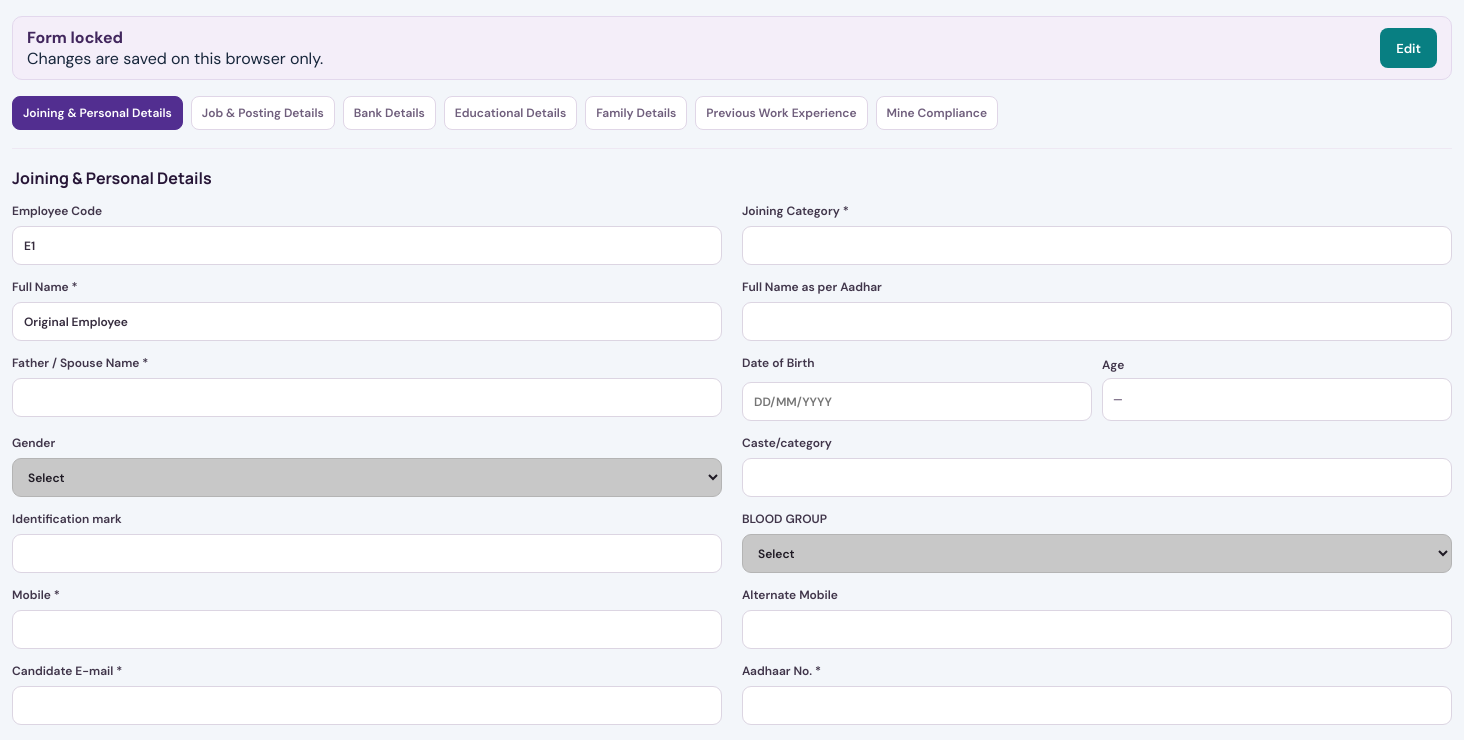
it: keeps edits visible when local storage fails
Click the button "Edit": (1409, 48) 1380,28 -> 1437,68
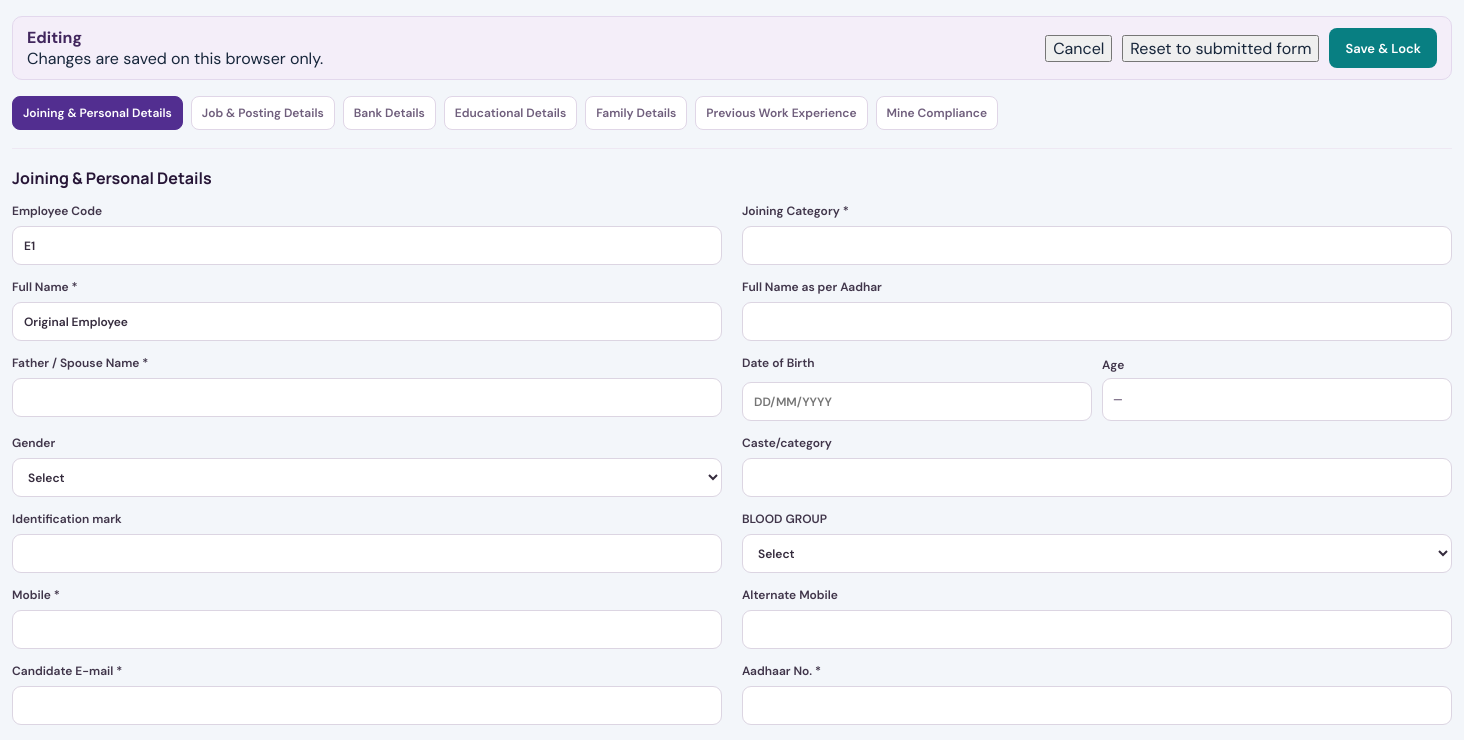
Replace the text in the field labelled "Full Name *" with "Keep this edit": (367, 322) 12,302 -> 722,341
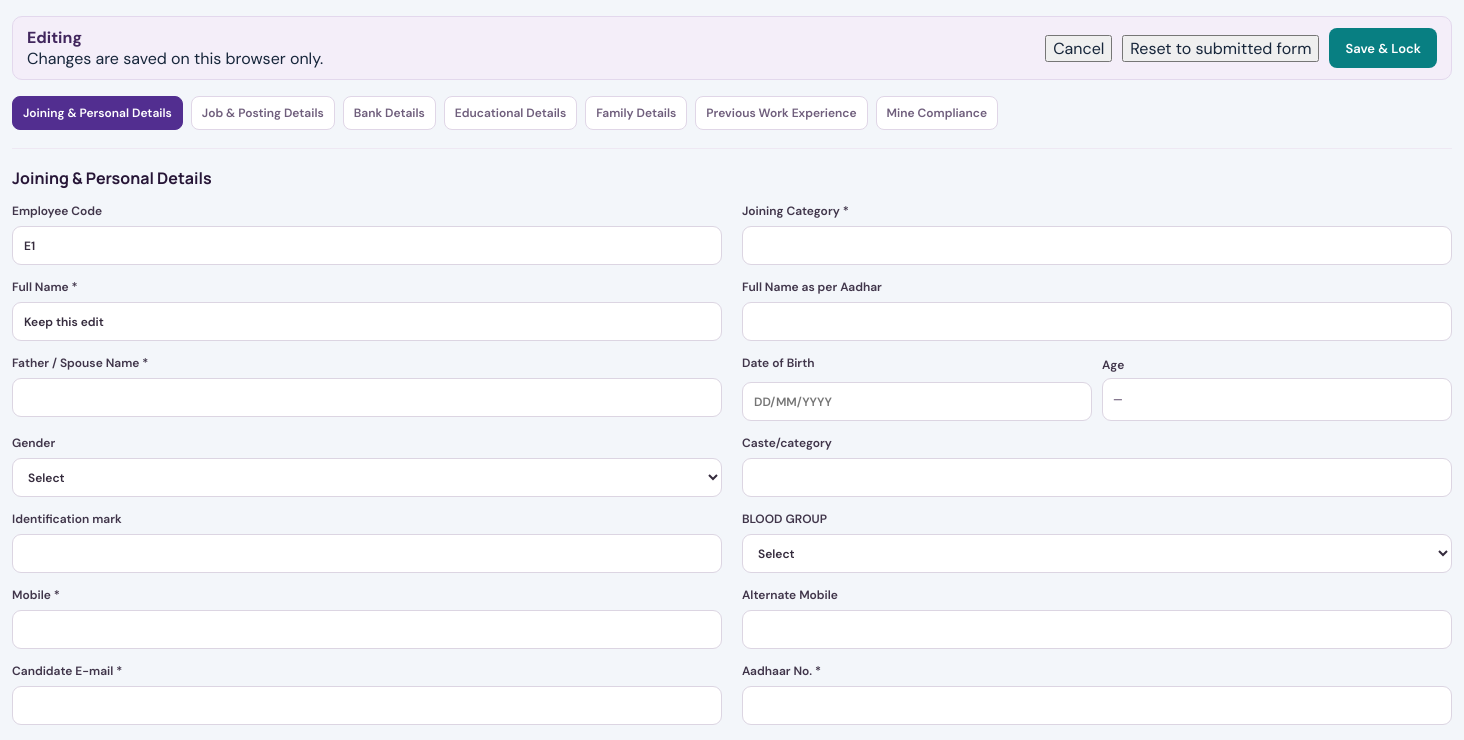
Click the button "Save & Lock": (1383, 48) 1329,28 -> 1437,68
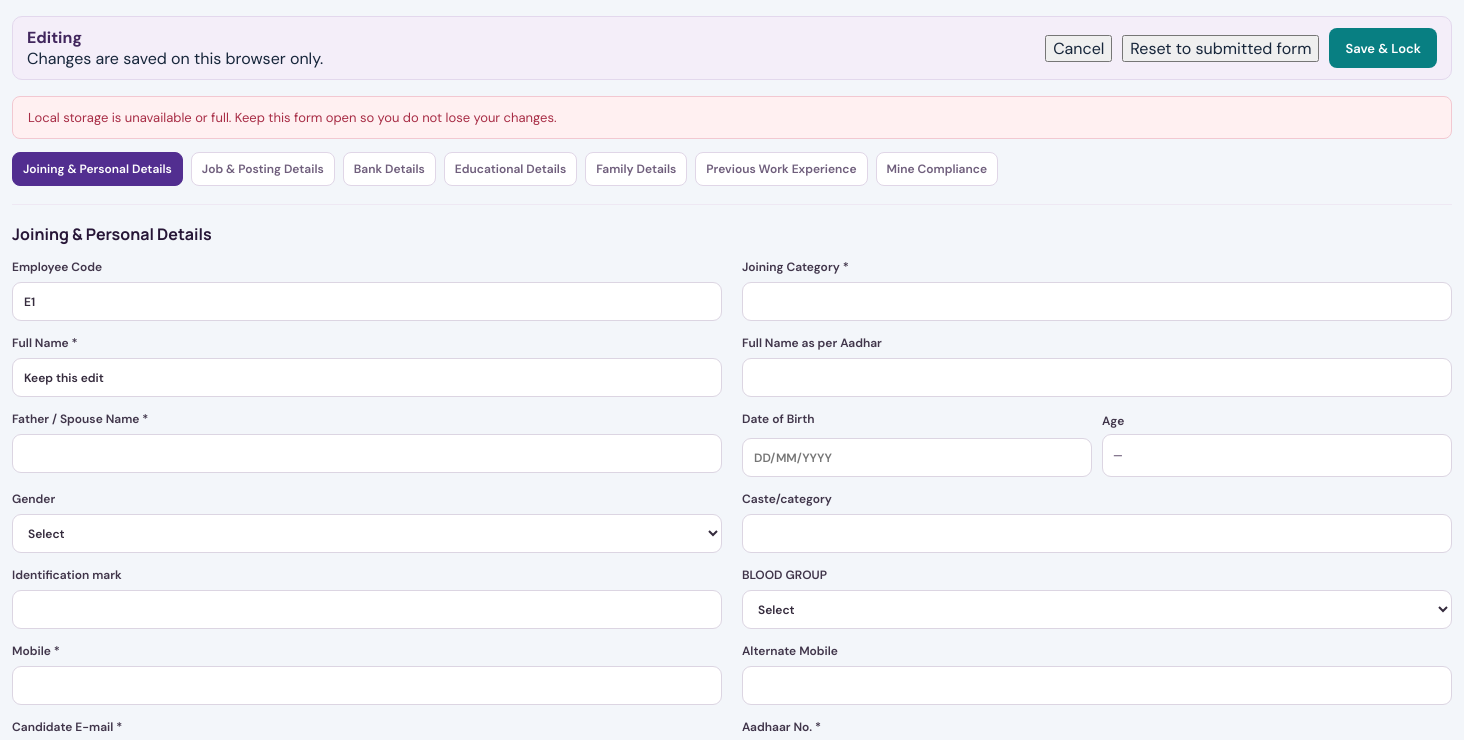
Check: the button "Save & Lock" is shown, box 1329,28 -> 1437,68
Check: the message shows "Local storage is unavailable or full", box 28,109 -> 556,126
